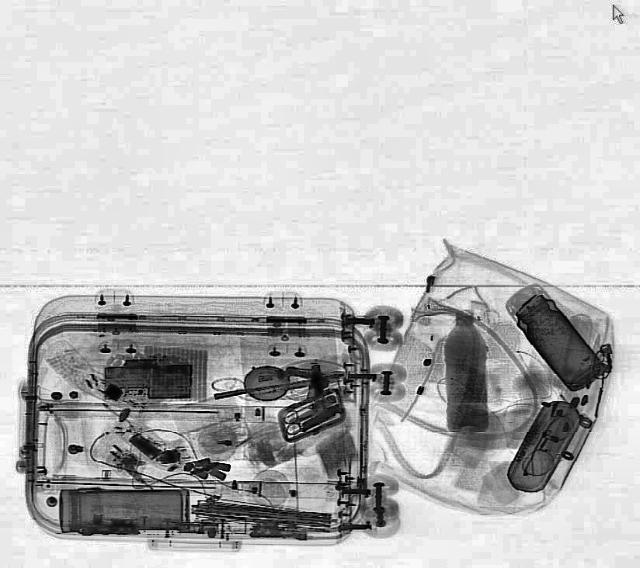Scissors: (274, 401, 328, 437)
